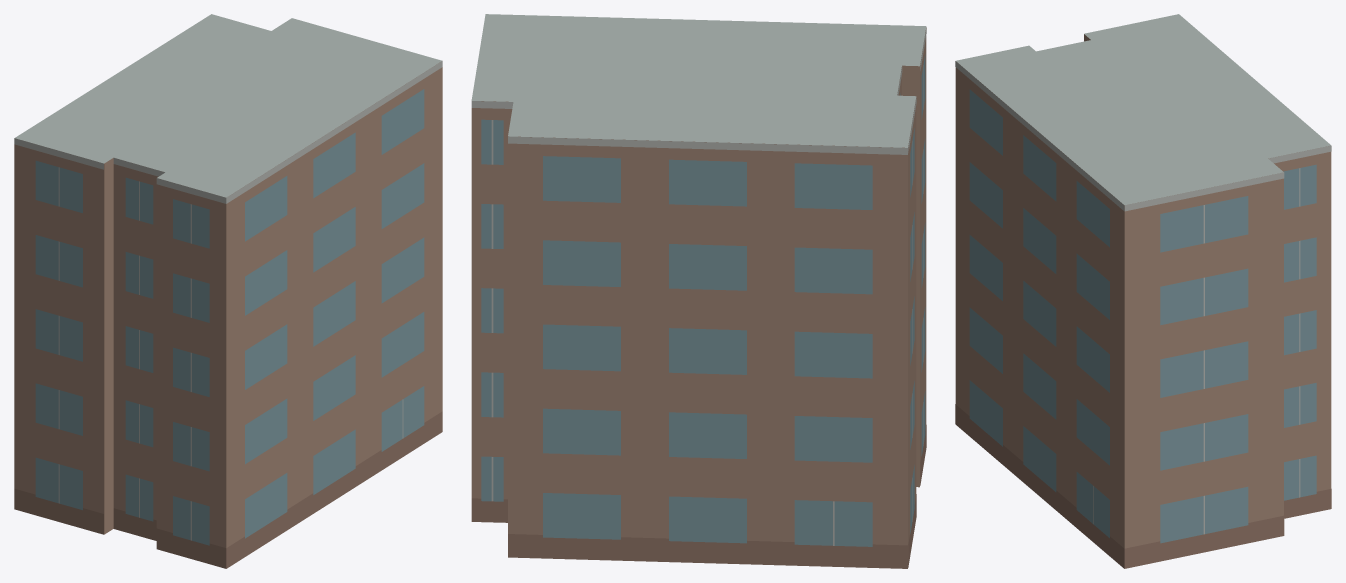
The model's file is survey-upis-32730154.glb.
3 renders of one model, left to right at view 1: azimuth 30°, elevation 25°; view 2: azimuth 150°, elevation 25°; view 3: azimuth 270°, elevation 25°, orthographic. The views are drawn at different scales.
Parts seen in each view (by area): view 1: survey-upis-32730154.tmp; view 2: survey-upis-32730154.tmp; view 3: survey-upis-32730154.tmp.
Part boxes in pixels (x1,y1,x2,y2): survey-upis-32730154.tmp: [14, 14, 442, 568]; survey-upis-32730154.tmp: [471, 14, 926, 568]; survey-upis-32730154.tmp: [955, 14, 1331, 568].
Bounding box in the file's own units: 16.26 × 14.4 × 13.51.
